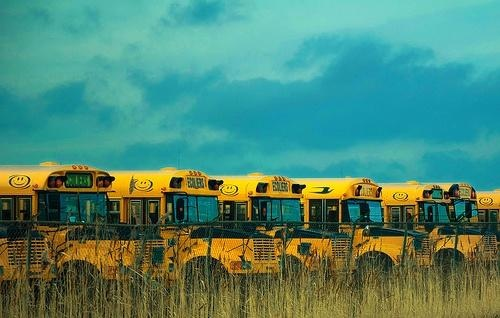bus: (99, 169, 281, 303), (4, 164, 164, 303), (286, 175, 433, 285), (214, 173, 355, 283), (375, 180, 484, 272)
